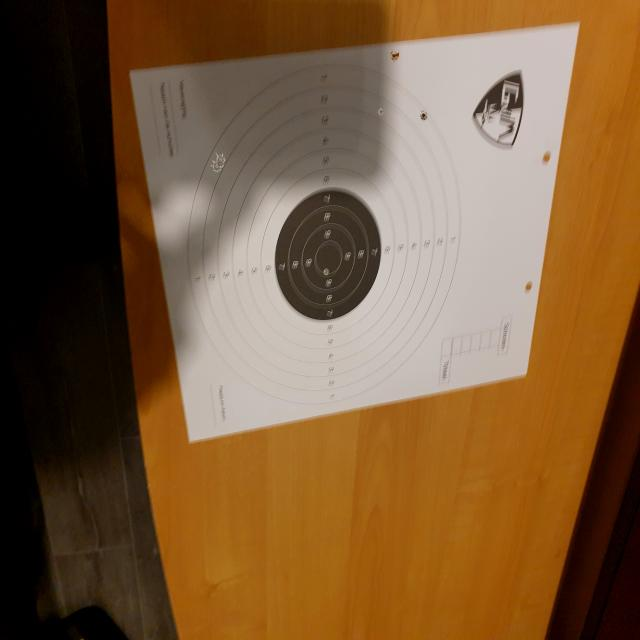0: (388, 49, 400, 62)
1: (211, 160, 222, 172), (419, 109, 428, 122), (216, 152, 225, 165)
10: (323, 268, 330, 276)
2: (377, 107, 385, 117)
Target: (186, 62, 462, 408)
black_contour: (275, 189, 382, 321)
